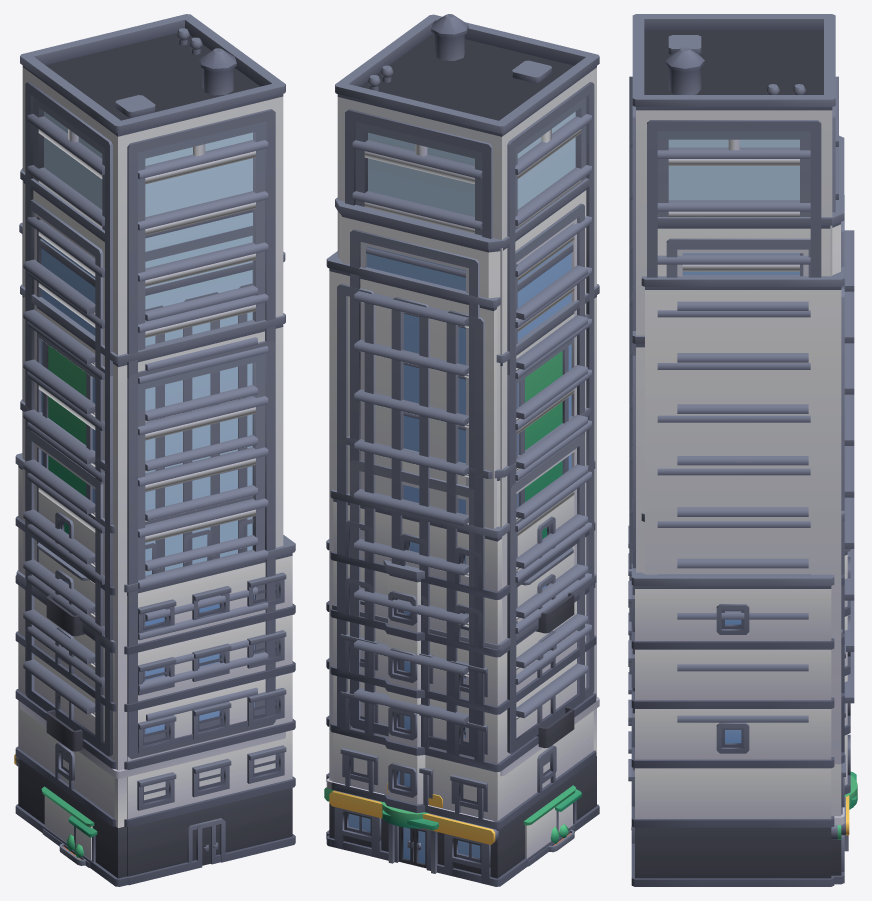
The model's file is open-city.glb.
3 views of the same model, side by side, from view 1: azimuth 30°, elevation 25°; view 2: azimuth 150°, elevation 25°; view 3: azimuth 270°, elevation 25° (orthographic). The views are drawn at different scales.
Parts seen in each view (by area): view 1: building-skyscraper-d, building-l, building-skyscraper-c, building-skyscraper-b, building-i, building-skyscraper-a, building-skyscraper-e, building-m, building-type-d; view 2: building-skyscraper-d, building-skyscraper-b, building-skyscraper-e, building-m, building-i, building-skyscraper-a, building-l, building-skyscraper-c, building-type-d; view 3: building-l, building-skyscraper-e, building-skyscraper-d, building-skyscraper-b, building-skyscraper-c, building-skyscraper-a, building-i.
Boxes of the visible parts, <box> form: building-skyscraper-d: <box>20,14,285,885</box>; building-l: <box>46,535,295,885</box>; building-skyscraper-c: <box>20,284,285,886</box>; building-skyscraper-b: <box>16,168,257,806</box>; building-i: <box>14,570,116,883</box>; building-skyscraper-a: <box>15,398,257,882</box>; building-skyscraper-e: <box>19,222,285,580</box>; building-m: <box>15,453,253,789</box>; building-type-d: <box>41,786,94,867</box>; building-skyscraper-d: <box>335,14,599,876</box>; building-skyscraper-b: <box>335,178,589,879</box>; building-skyscraper-e: <box>326,244,573,883</box>; building-m: <box>330,460,595,886</box>; building-i: <box>329,574,596,878</box>; building-skyscraper-a: <box>342,407,595,886</box>; building-l: <box>324,539,574,838</box>; building-skyscraper-c: <box>382,284,599,873</box>; building-type-d: <box>523,785,575,866</box>; building-l: <box>628,525,857,886</box>; building-skyscraper-e: <box>641,195,844,884</box>; building-skyscraper-d: <box>629,14,853,874</box>; building-skyscraper-b: <box>631,135,854,722</box>; building-skyscraper-c: <box>629,331,856,851</box>; building-skyscraper-a: <box>631,451,854,716</box>; building-i: <box>841,629,849,835</box>.
Bounding box in the file's own units: 15.07 × 60.52 × 15.42.
20 materials, 4 textured.
